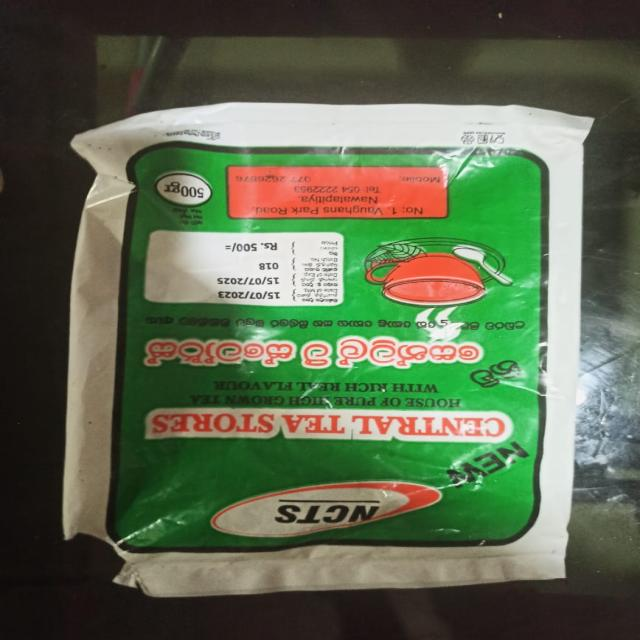Central Tea: (54, 100, 566, 613)
